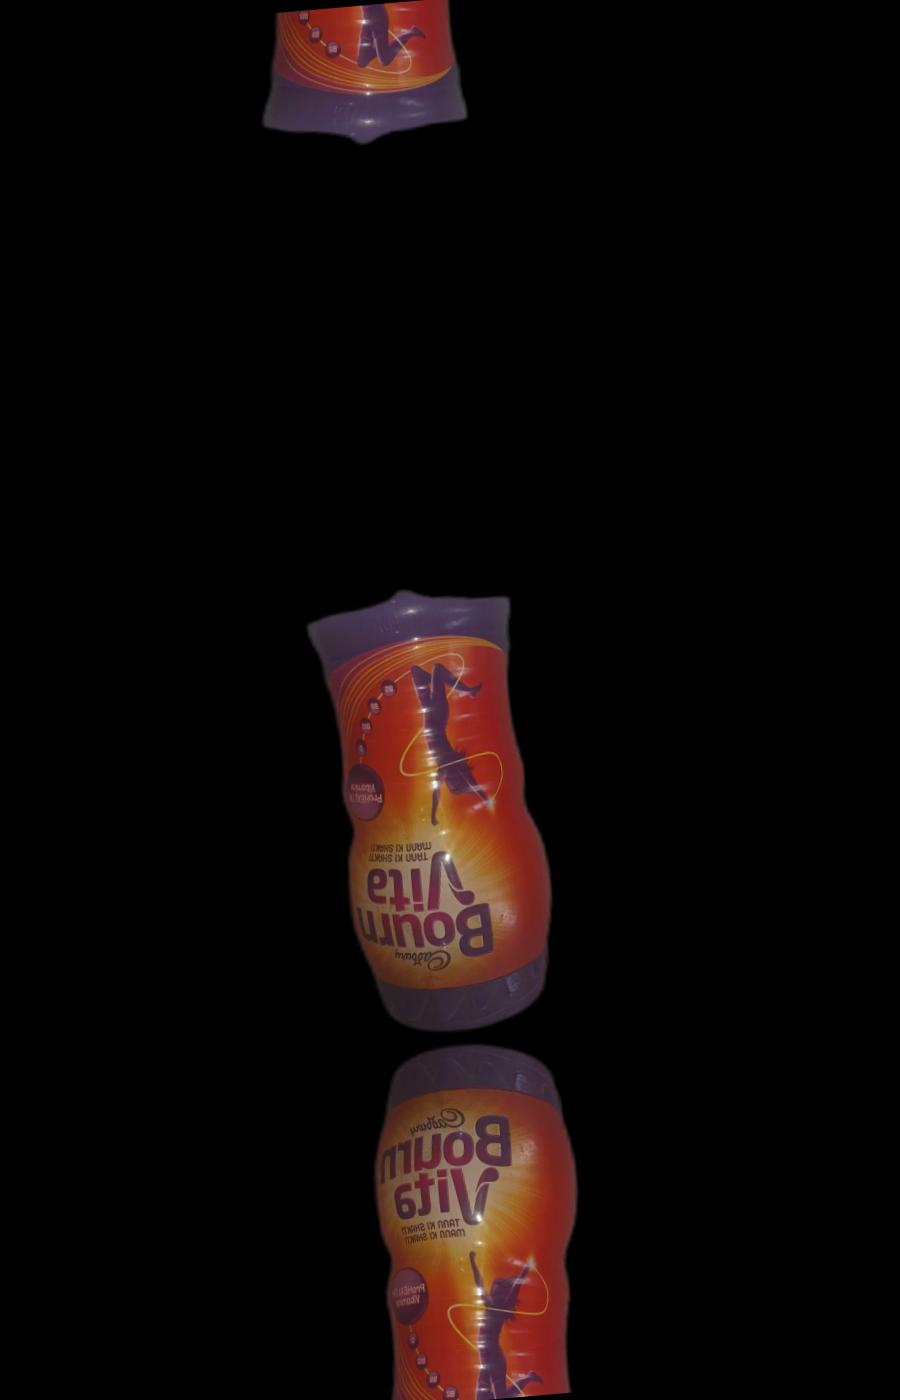Cadbury Bournvita Chocolate Health Drink-1kg-: (296, 576, 568, 1037), (337, 1042, 602, 1400), (245, 0, 492, 158)
